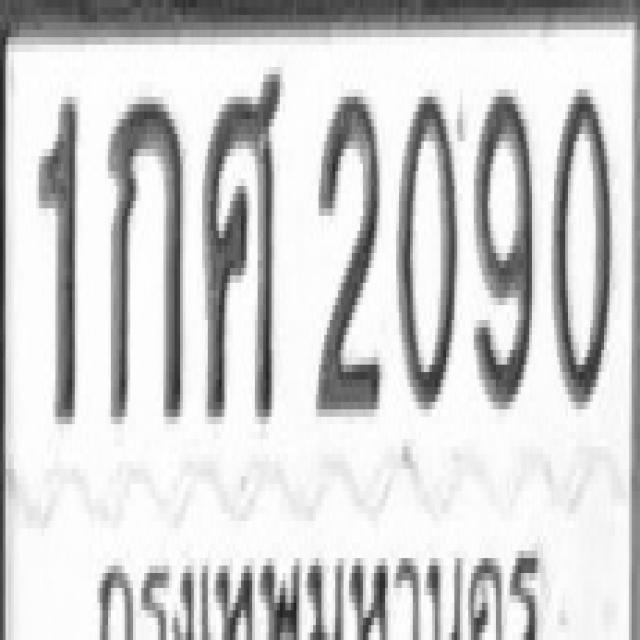0: (395, 90, 458, 410), (550, 78, 611, 406)
1: (36, 89, 78, 424)
10GorGai: (105, 86, 183, 420)
2: (314, 86, 381, 413)
47SorSala: (202, 67, 283, 424)
9: (472, 86, 534, 406)
